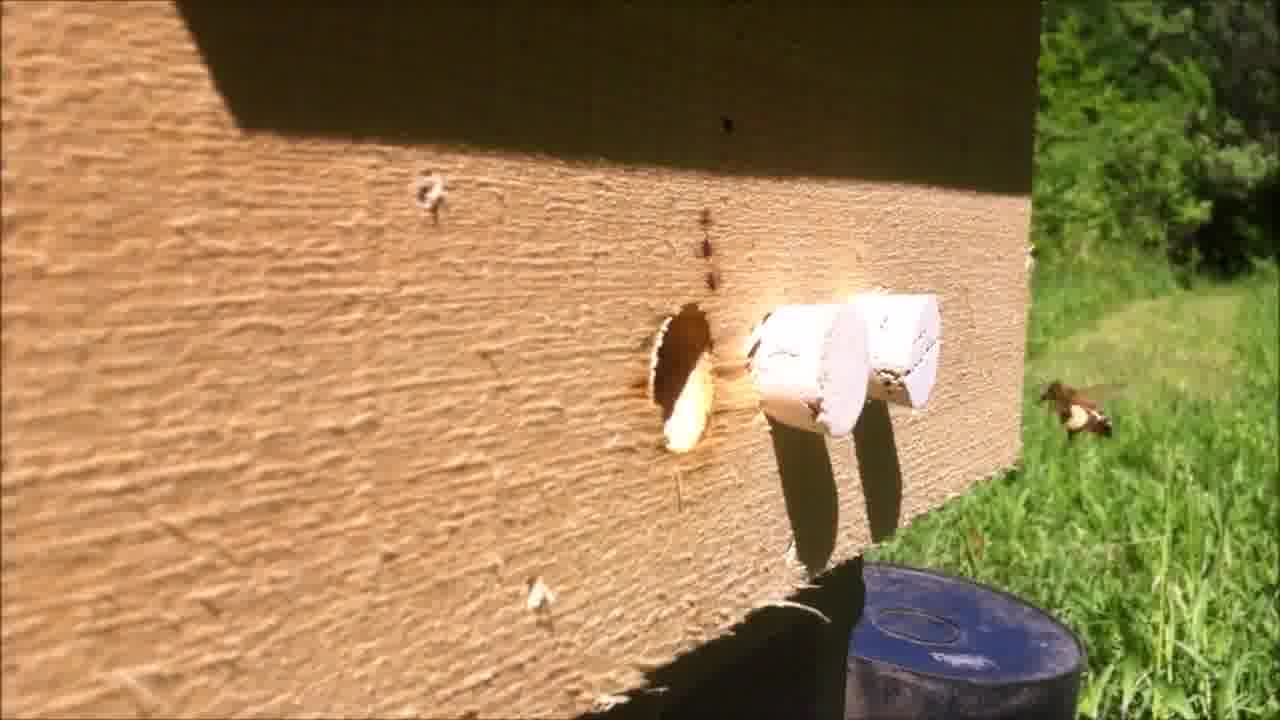pollen: (1037, 379, 1125, 443)
